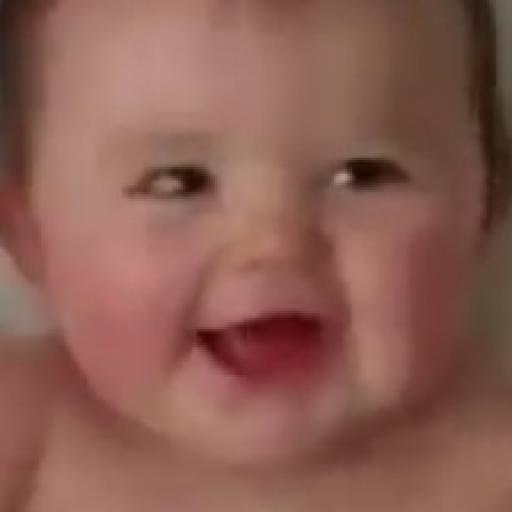Autism: (28, 18, 503, 480)
